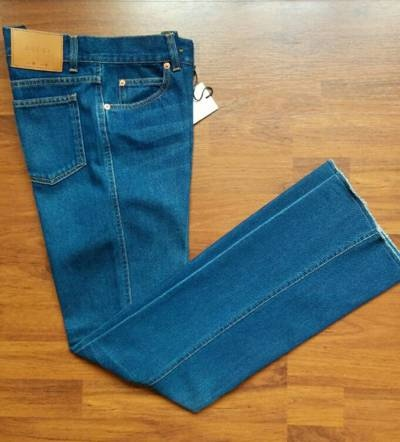Pants: (6, 14, 399, 407)
